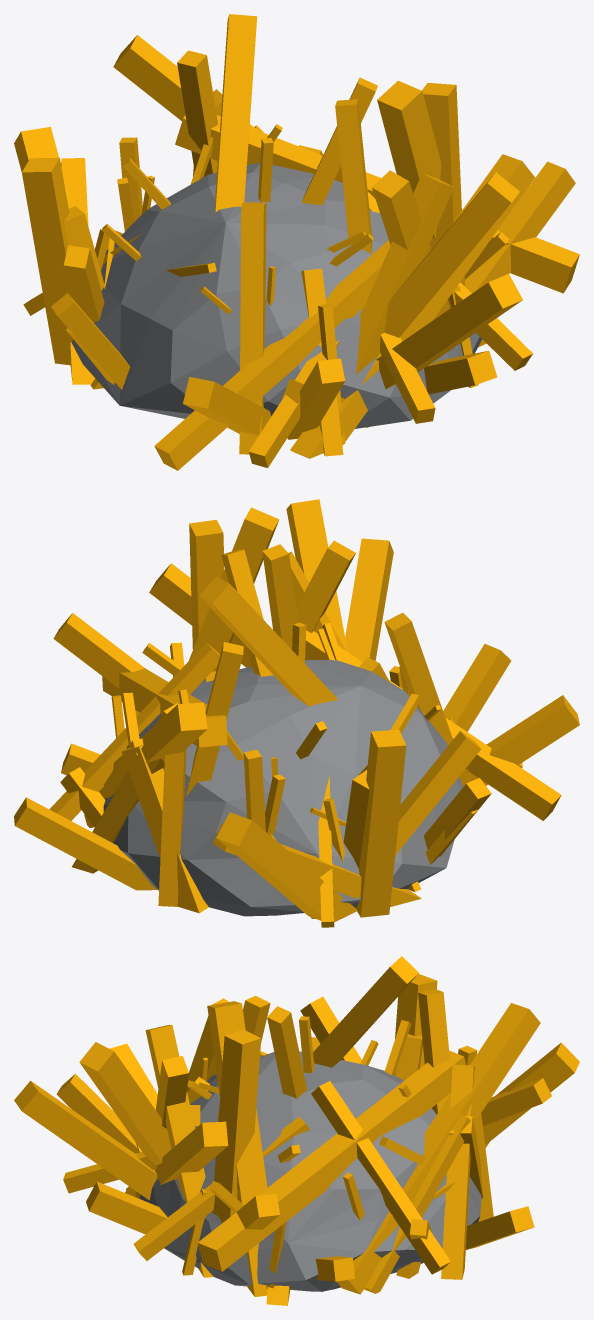
Rendered from PointyGemsVar2.fbx.
3 renders of one model, top to bottom at view 1: azimuth 30°, elevation 25°; view 2: azimuth 150°, elevation 25°; view 3: azimuth 270°, elevation 25°, orthographic. The views are drawn at different scales.
Visible parts, largest first — view 1: PointyGemsVar2Granite; view 2: PointyGemsVar2Granite; view 3: PointyGemsVar2Granite.
Boxes of the visible parts, bbox=[...] form: PointyGemsVar2Granite: bbox=[14, 14, 579, 470]; PointyGemsVar2Granite: bbox=[14, 499, 579, 927]; PointyGemsVar2Granite: bbox=[14, 956, 579, 1305].
Bounding box in the file's own units: 246 × 148 × 284.
